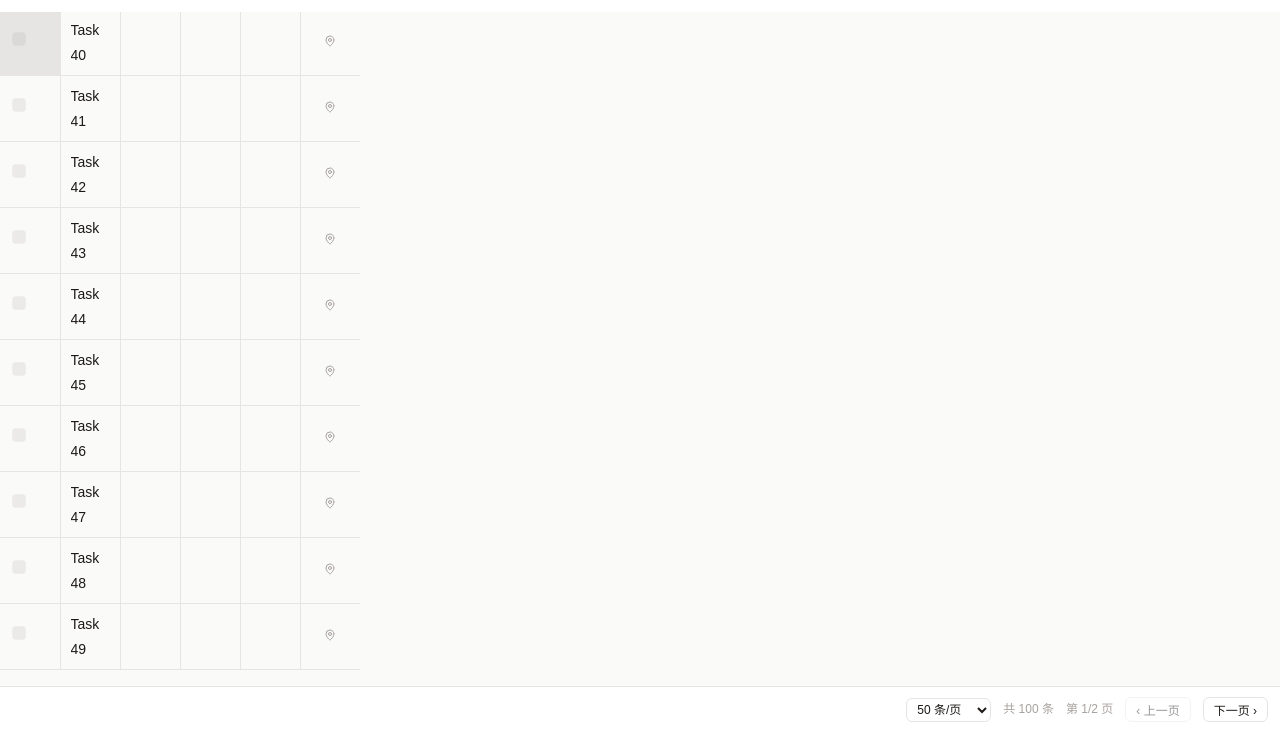
Test: TableView (generic, field-driven) › changes page size via dropdown and clamps current page
Click the button with test id "page-next" at (1235, 710), box left=1203, top=697, right=1268, bottom=722
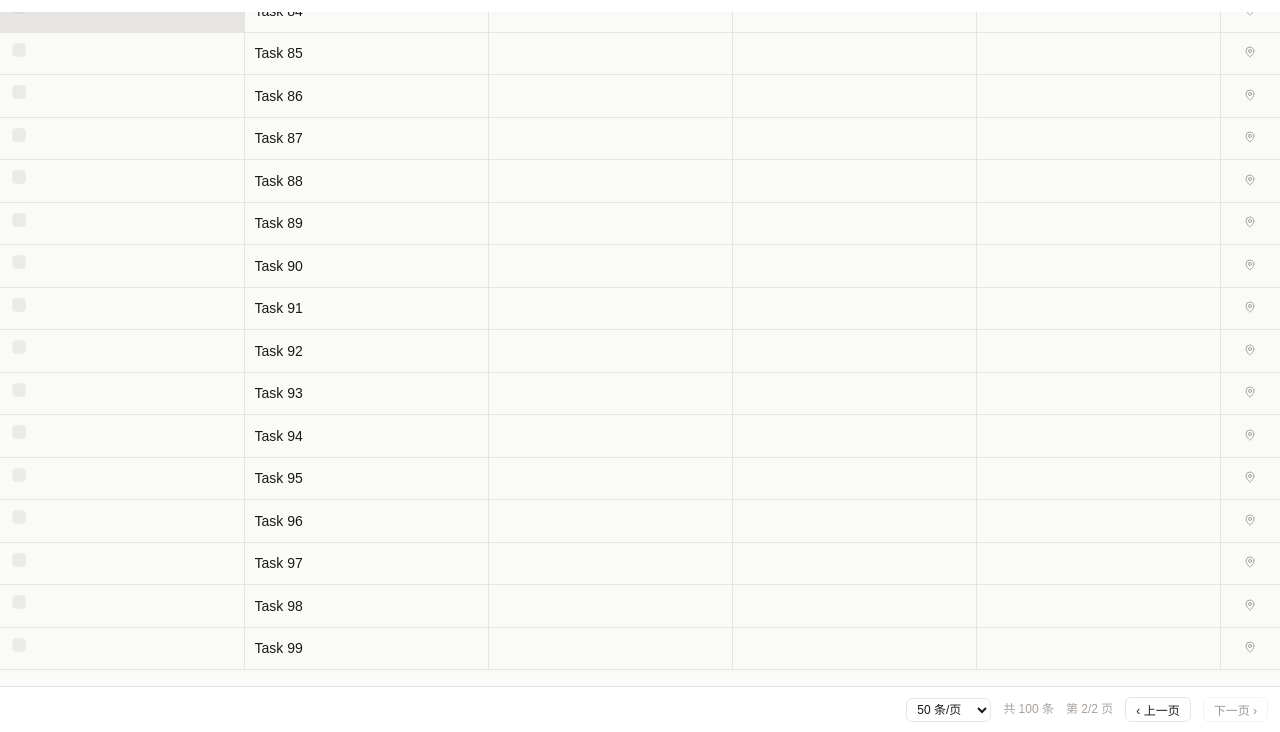
Check: the text "第 2/2 页" is shown, box left=1066, top=699, right=1113, bottom=720
Note: 切到 100 条/页 → 单页，clamp 回第 1 页
Select "100 条/页" in the dropdown with test id "page-size-select" at (949, 710), box left=906, top=698, right=991, bottom=722
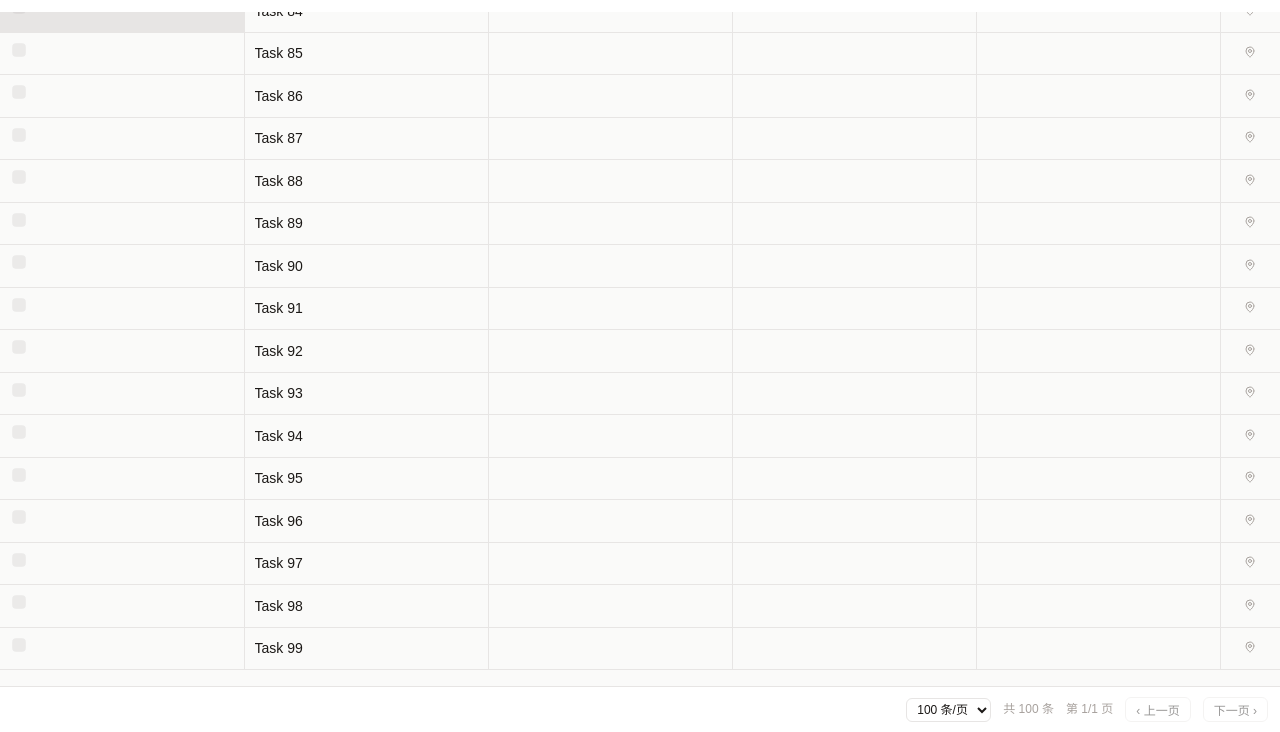
Check: the text "第 1/1 页" is shown, box left=1066, top=699, right=1113, bottom=720
